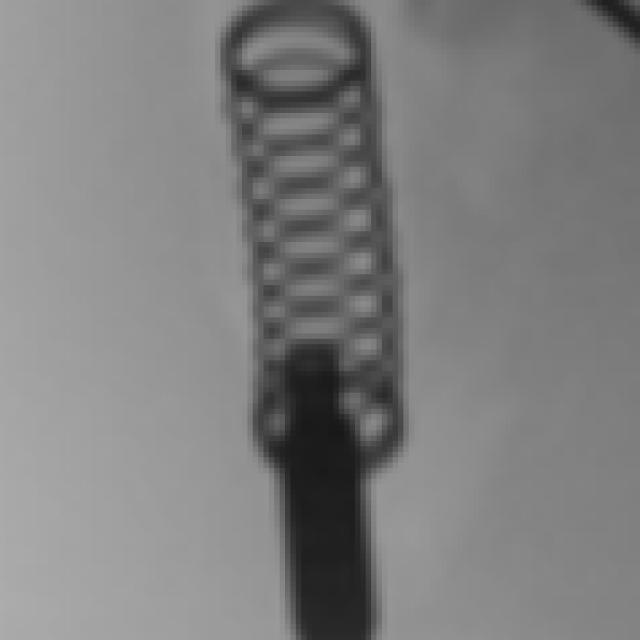GUN: (273, 339, 390, 640)
